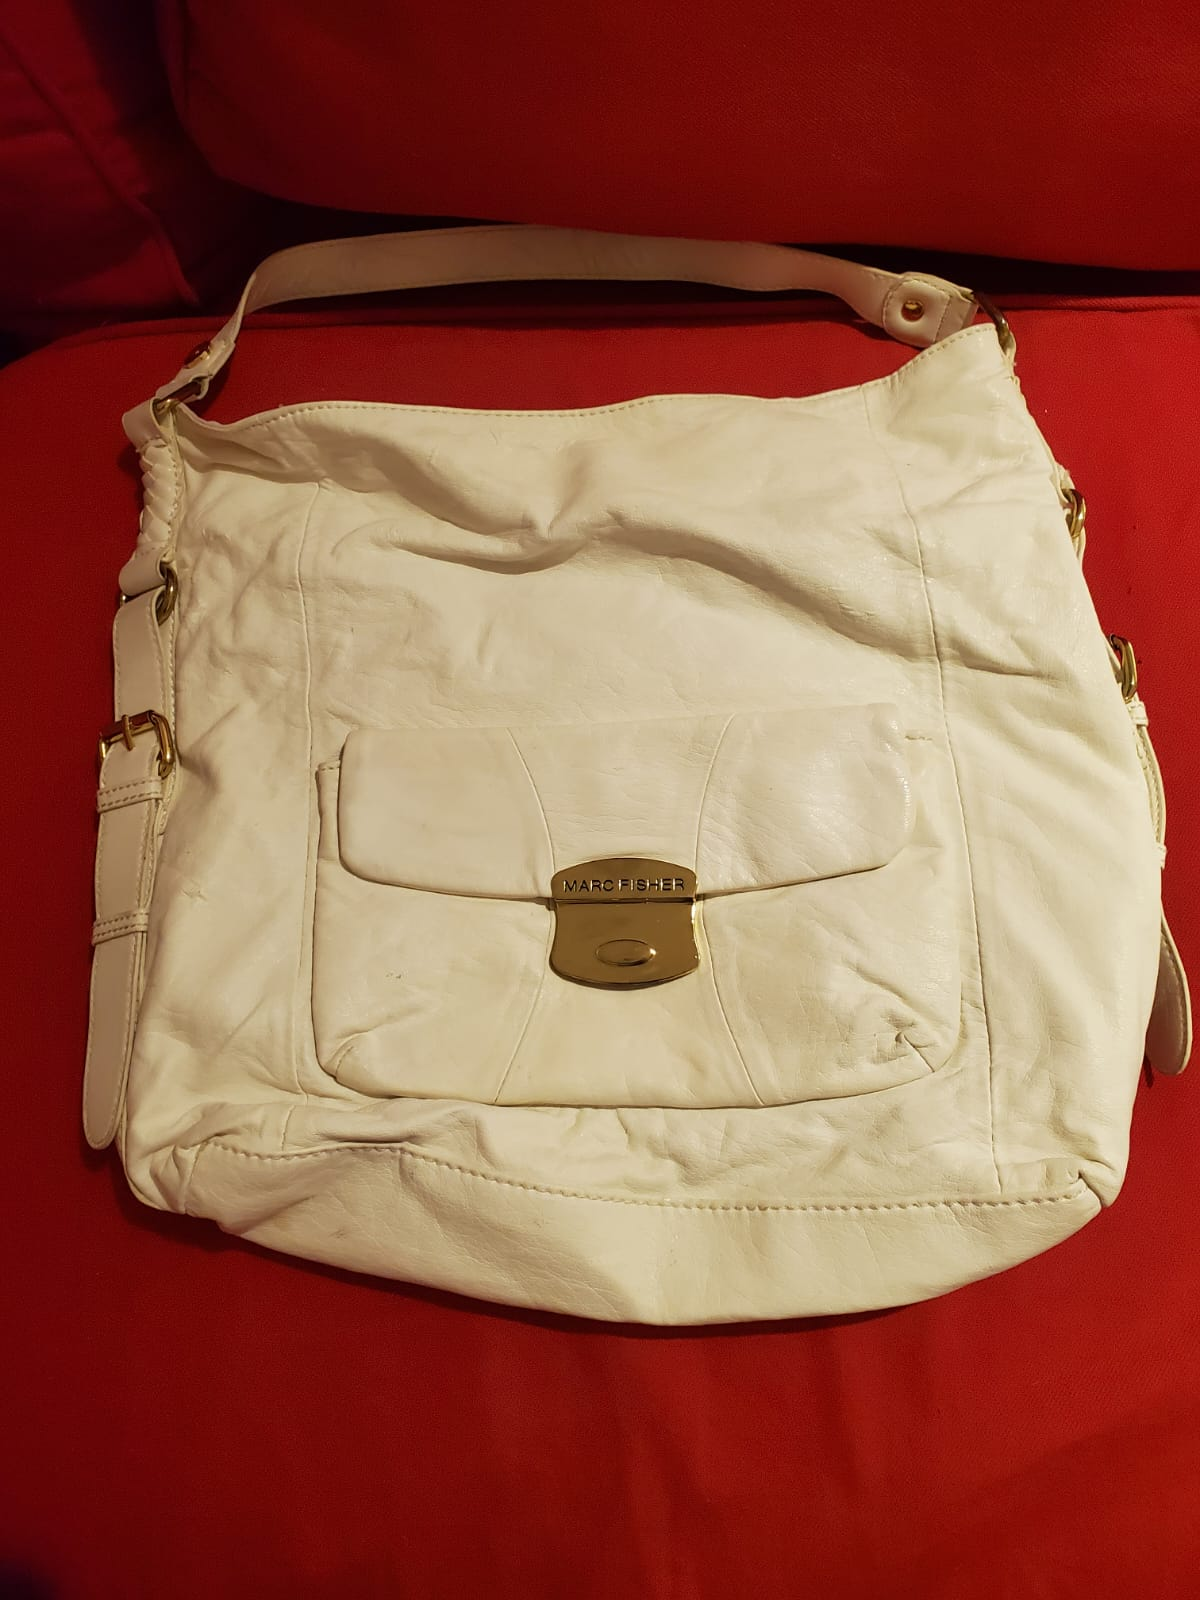cartera: (88, 208, 1200, 1354)
cuero: (193, 445, 1042, 1180)
